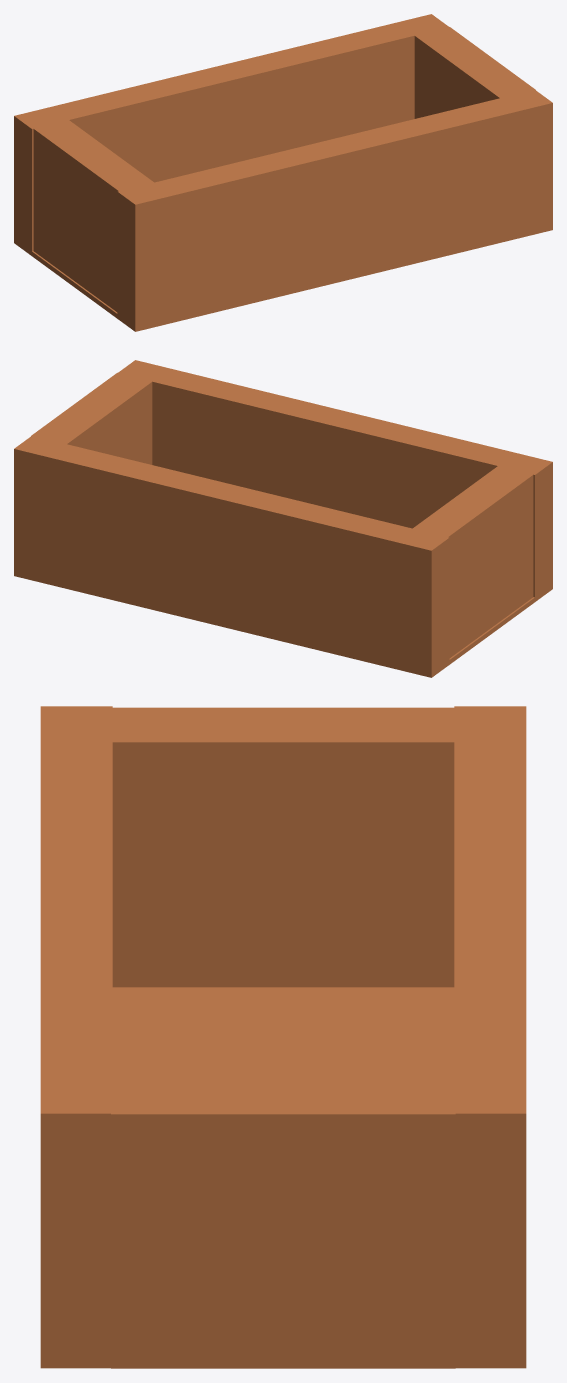
The picture shows the model from 3 angles, top to bottom: view 1: azimuth 30°, elevation 25°; view 2: azimuth 150°, elevation 25°; view 3: azimuth 270°, elevation 25°; orthographic projection. The views are drawn at different scales.
Parts seen in each view (by area): view 1: pCube1, pCube2, pCube3, pCube4, pCube5; view 2: pCube2, pCube1, pCube3, pCube4, pCube5; view 3: pCube4, pCube3, pCube2, pCube1, pCube5.
Part boxes in pixels (<box>): pCube1: <box>117,90,552,331</box>; pCube2: <box>14,14,449,255</box>; pCube3: <box>33,120,154,311</box>; pCube4: <box>414,27,535,118</box>; pCube5: <box>32,251,117,318</box>; pCube2: <box>14,436,449,677</box>; pCube1: <box>117,360,552,601</box>; pCube3: <box>412,466,533,657</box>; pCube4: <box>31,372,152,464</box>; pCube5: <box>449,597,534,664</box>; pCube4: <box>111,1079,455,1368</box>; pCube3: <box>111,707,455,987</box>; pCube2: <box>454,706,526,1368</box>; pCube1: <box>40,706,112,1368</box>; pCube5: <box>100,987,468,1368</box>.
Size of the model in its own units: 3.44 by 1 by 1.73.
